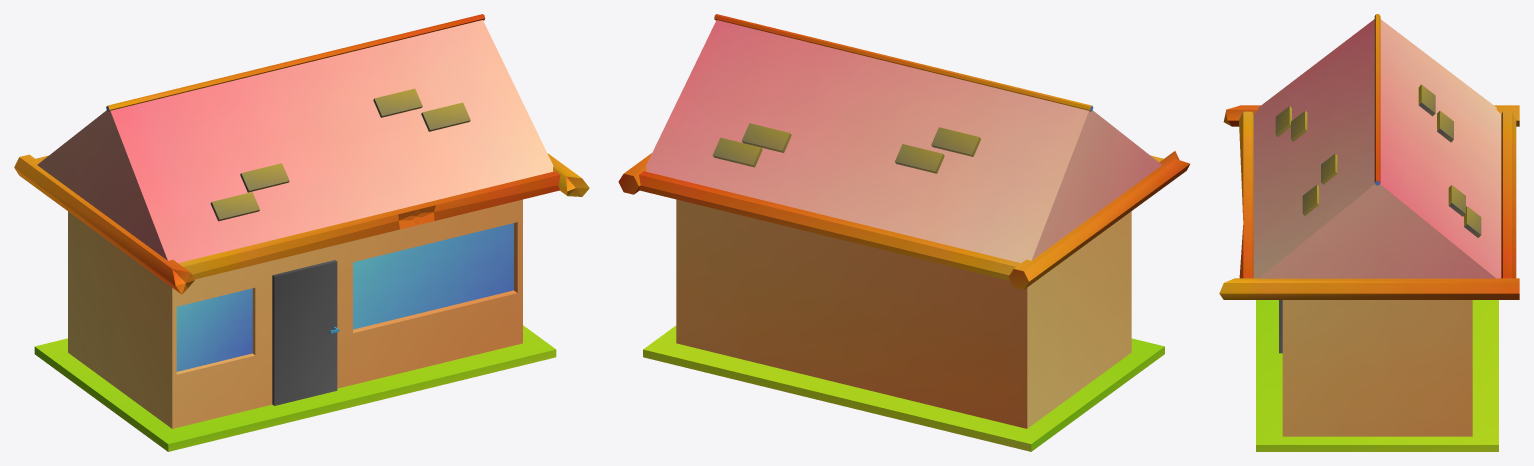
The model's file is House_12.glb.
The picture shows the model from 3 angles, left to right: view 1: azimuth 30°, elevation 25°; view 2: azimuth 150°, elevation 25°; view 3: azimuth 270°, elevation 25°; orthographic projection. The views are drawn at different scales.
Parts seen in each view (by area): view 1: House_12; view 2: House_12; view 3: House_12.
Part boxes in pixels (x1=…): House_12: x1=14, y1=14, x2=589, y2=451; House_12: x1=618, y1=14, x2=1189, y2=451; House_12: x1=1219, y1=14, x2=1519, y2=451.
Bounding box in the file's own units: 720 × 495 × 501.
Materials: 1 (1 with a texture image).
